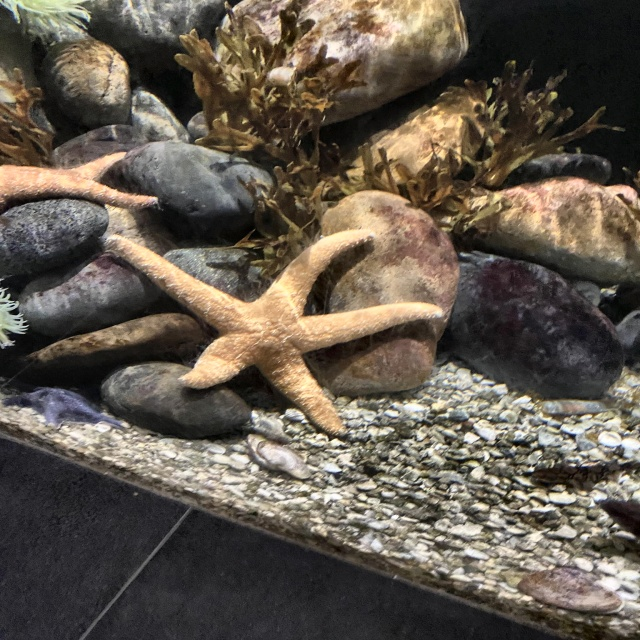starfish: (106, 228, 443, 436), (0, 152, 158, 209)
